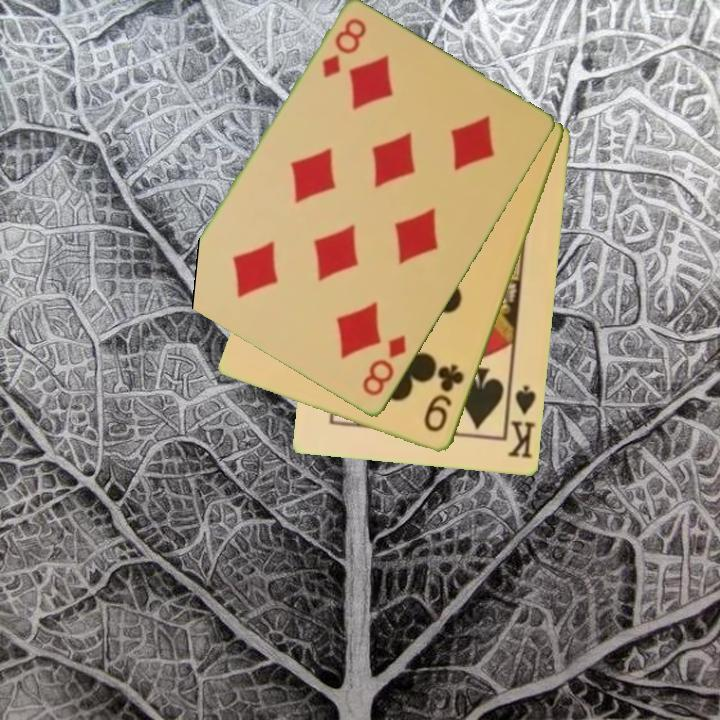8d: (318, 15, 370, 82), (359, 332, 410, 400)
9c: (420, 361, 467, 436)
Ks: (503, 380, 540, 462)
